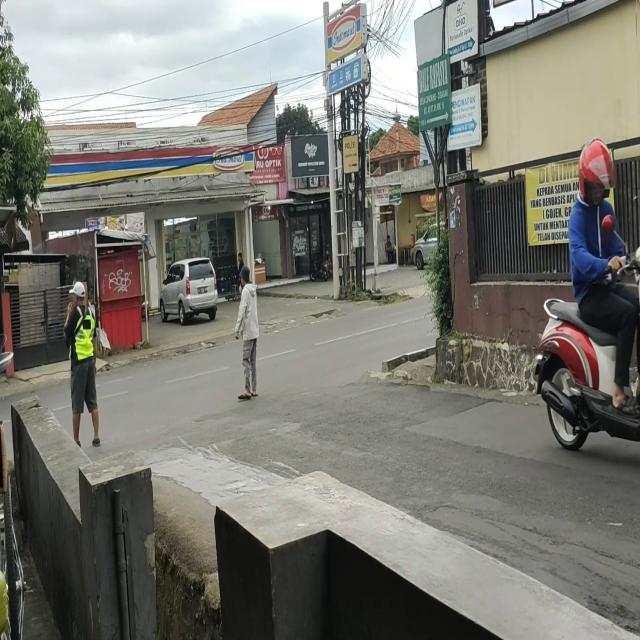helmet: (581, 138, 615, 203)
